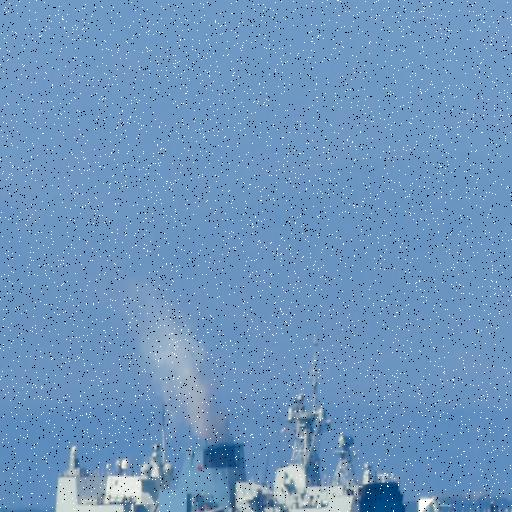Fragata: (1, 344, 512, 512)
